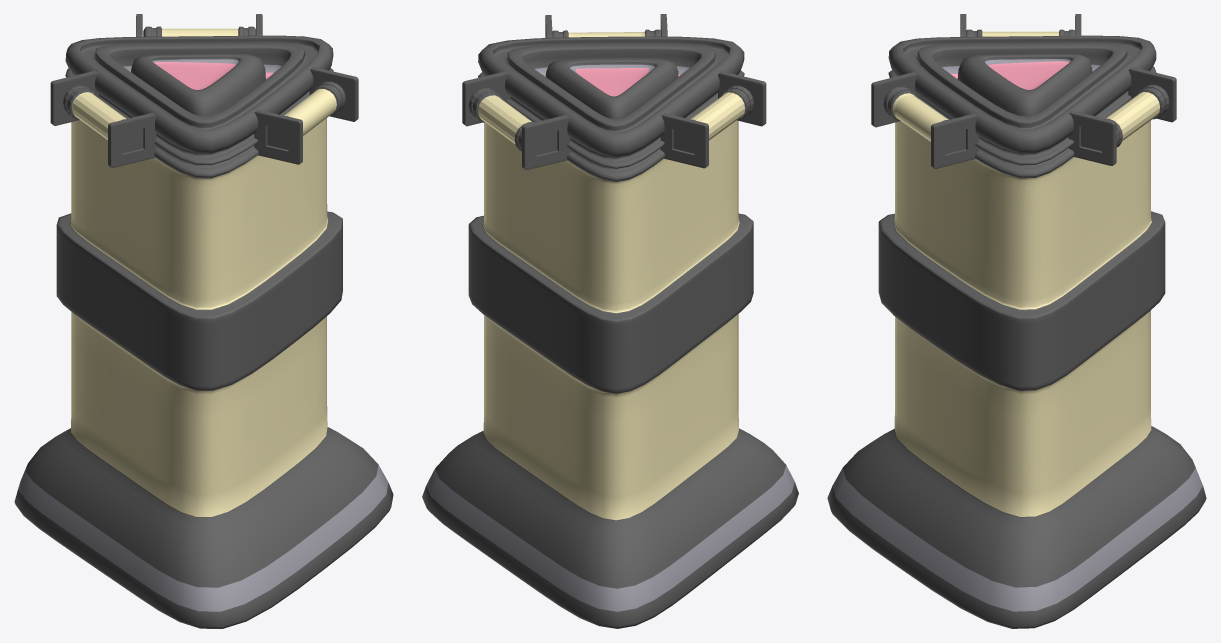
Rendered from prisma.fbx.
3 renders of one model, left to right at view 1: azimuth 30°, elevation 25°; view 2: azimuth 150°, elevation 25°; view 3: azimuth 270°, elevation 25°, orthographic.
Visible parts, largest first — view 1: Cube.002; view 2: Cube.002; view 3: Cube.002.
Boxes of the visible parts, x1,y1,x2,y2 form: Cube.002: (14, 14, 393, 628); Cube.002: (422, 14, 798, 628); Cube.002: (827, 14, 1206, 628).
Size of the model in its own units: 1.19 by 1.26 by 1.73.
